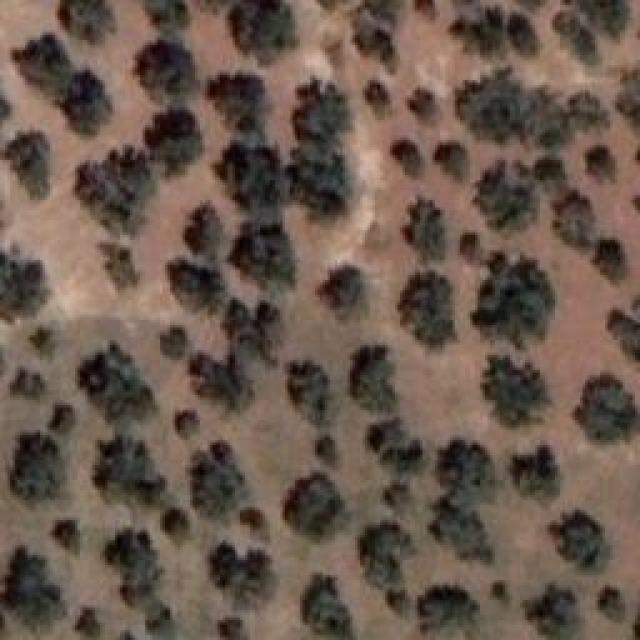Tree: (467, 253, 551, 345), (78, 338, 159, 427), (230, 208, 307, 299), (82, 148, 154, 235), (100, 518, 168, 607), (478, 350, 544, 437), (215, 134, 293, 206), (90, 433, 159, 513), (180, 440, 248, 521), (455, 68, 525, 144), (185, 355, 265, 420), (210, 533, 275, 612), (0, 550, 67, 626), (371, 423, 428, 512), (438, 435, 505, 509), (350, 343, 414, 417), (285, 143, 346, 220), (285, 470, 349, 542), (0, 238, 54, 323), (435, 495, 496, 569), (515, 80, 577, 152), (353, 510, 414, 582), (288, 80, 355, 145), (238, 0, 307, 63), (13, 425, 69, 502), (223, 298, 282, 371), (348, 0, 410, 69), (5, 125, 61, 201), (278, 352, 337, 424), (553, 500, 613, 570), (162, 258, 232, 317), (410, 575, 474, 639), (52, 60, 109, 131), (568, 378, 627, 445), (403, 275, 450, 359), (517, 572, 575, 640), (303, 575, 363, 640), (478, 158, 532, 230), (143, 103, 203, 167), (213, 70, 277, 130), (130, 40, 196, 98), (400, 190, 455, 254), (553, 190, 609, 251), (314, 260, 368, 323), (15, 25, 71, 85), (510, 445, 574, 496), (528, 147, 580, 206), (178, 198, 225, 263), (450, 0, 511, 50), (55, 0, 125, 43), (553, 8, 603, 68), (95, 237, 144, 295), (607, 307, 640, 372), (593, 235, 634, 287), (135, 0, 196, 33), (590, 0, 640, 40), (385, 130, 425, 176), (570, 90, 609, 137), (617, 65, 639, 148), (435, 135, 472, 184), (573, 148, 615, 191), (235, 503, 278, 544), (375, 583, 420, 622), (365, 73, 408, 113), (505, 15, 545, 58), (30, 320, 66, 367), (445, 225, 479, 274), (153, 498, 193, 538), (165, 405, 204, 445), (310, 420, 345, 463), (407, 80, 441, 124), (485, 573, 521, 613), (50, 398, 82, 442), (380, 478, 416, 517), (52, 510, 87, 548), (597, 580, 631, 615), (8, 375, 44, 408), (152, 328, 184, 365), (213, 612, 248, 640), (0, 95, 26, 129), (72, 610, 100, 640)
